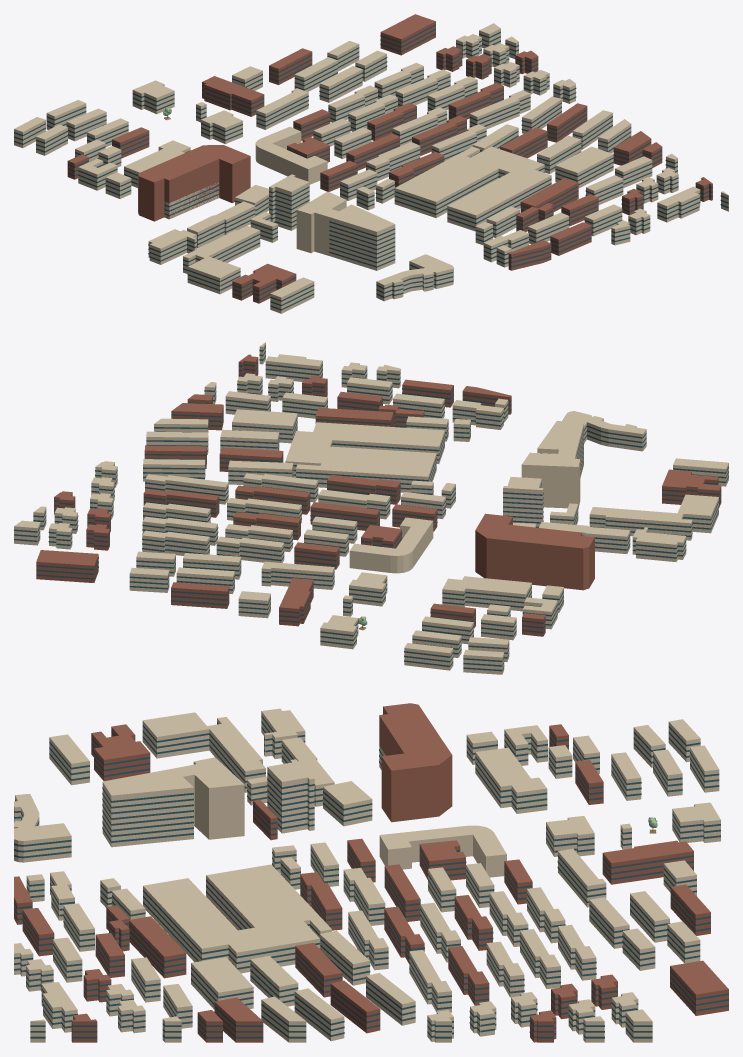
3 renders of one model, top to bottom at view 1: azimuth 30°, elevation 25°; view 2: azimuth 150°, elevation 25°; view 3: azimuth 270°, elevation 25°, orthographic. The views are drawn at different scales.
Visible parts, largest first — view 1: osm-way-1429734925, osm-way-1429734795, osm-way-696884111, osm-way-1429734812, osm-way-1429734884, osm-way-1429734797, osm-way-1429734814, osm-way-1427894064, osm-way-1429734929, osm-way-1427893974, osm-way-1429734807, osm-way-1429734817 (+73 smaller); view 2: osm-way-1429734925, osm-way-1429734795, osm-way-1429734812, osm-way-1429734884, osm-way-1429734797, osm-way-1429697251, osm-way-1427893974, osm-way-1429734814, osm-way-1427894060, osm-way-1429734807, osm-way-1429734929, osm-relation-19601014 (+63 smaller); view 3: osm-way-1429734925, osm-way-1429734795, osm-way-696884111, osm-way-1429734812, osm-way-1429734797, osm-way-1429734884, osm-way-1429697251, osm-way-1429734814, osm-way-1427894064, osm-way-1429734807, osm-way-1427893974, osm-way-1429734929 (+81 smaller).
Boxes of the visible parts, x1,y1,x2,y2 form: osm-way-1429734925: (394, 146, 551, 231); osm-way-1429734795: (138, 145, 250, 221); osm-way-696884111: (329, 204, 395, 270); osm-way-1429734812: (183, 226, 260, 294); osm-way-1429734884: (255, 126, 327, 184); osm-way-1429734797: (296, 191, 346, 255); osm-way-1429734814: (269, 174, 309, 230); osm-way-1427894064: (202, 76, 264, 116); osm-way-1429734929: (555, 146, 613, 188); osm-way-1427893974: (380, 14, 435, 55); osm-way-1429734807: (232, 263, 296, 303); osm-way-1429734817: (187, 201, 255, 248); osm-way-1429734925: (285, 422, 444, 492); osm-way-1429734795: (475, 513, 594, 590); osm-way-1429734812: (589, 494, 718, 540); osm-way-1429734884: (349, 517, 433, 573); osm-way-1429734797: (521, 449, 580, 508); osm-way-1429697251: (442, 576, 531, 611); osm-way-1427893974: (36, 550, 98, 582); osm-way-1429734814: (503, 477, 543, 527); osm-way-1427894060: (261, 561, 334, 589); osm-way-1429734807: (662, 469, 721, 507); osm-way-1429734929: (232, 409, 297, 443); osm-relation-19601014: (632, 527, 686, 561); osm-way-1429734925: (143, 864, 331, 973); osm-way-1429734795: (379, 703, 452, 822); osm-way-696884111: (102, 768, 193, 847); osm-way-1429734812: (142, 712, 265, 792); osm-way-1429734797: (174, 757, 244, 839); osm-way-1429734884: (379, 825, 506, 877); osm-way-1429697251: (475, 747, 547, 813); osm-way-1429734814: (267, 759, 314, 833); osm-way-1427894064: (602, 840, 693, 884); osm-way-1429734807: (91, 724, 150, 781); osm-way-1427893974: (670, 960, 728, 1015); osm-way-1429734929: (191, 957, 253, 1009).
Bounding box in the file's own units: 468 × 36 × 452.
